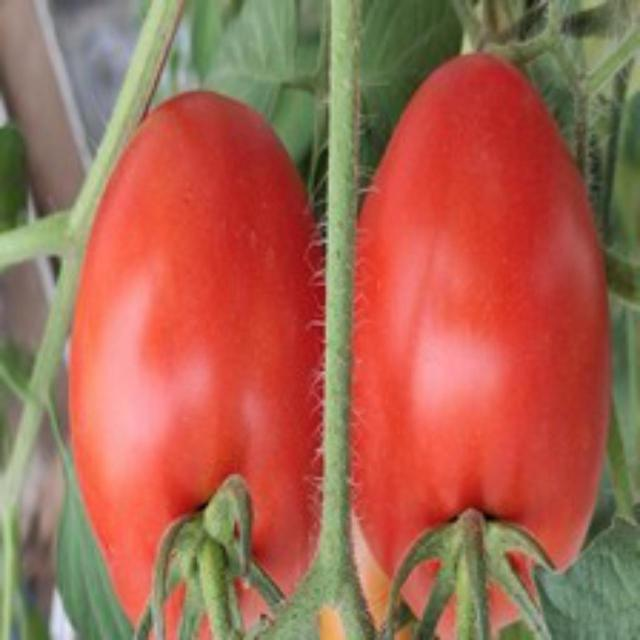tomato: (342, 37, 620, 637), (57, 83, 337, 637)
